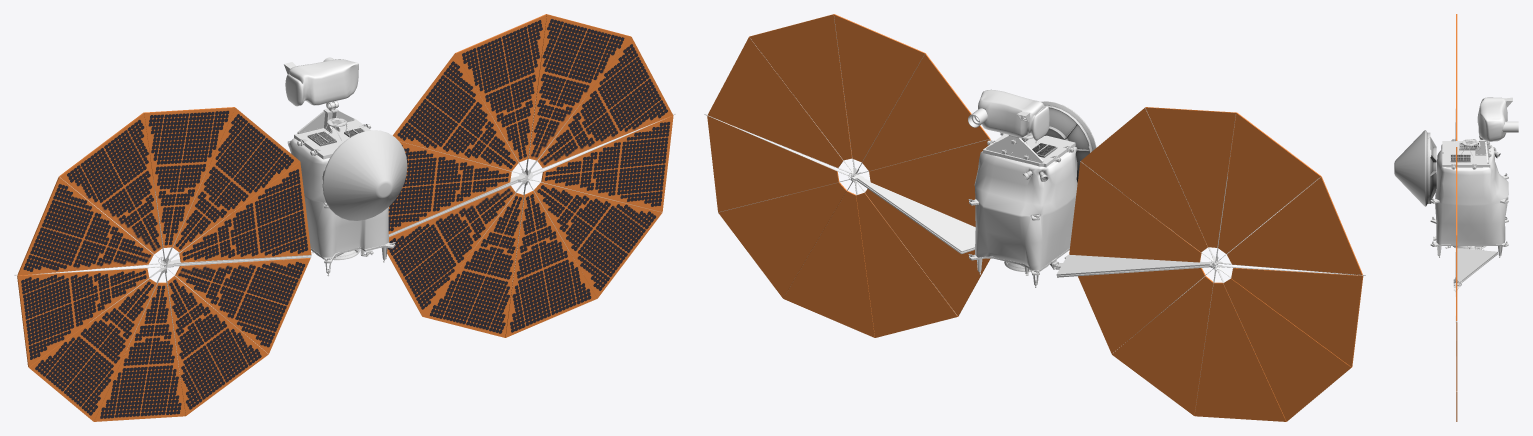
File: sc_lucy.glb
3 renders of one model, left to right at view 1: azimuth 30°, elevation 25°; view 2: azimuth 150°, elevation 25°; view 3: azimuth 270°, elevation 25°, orthographic. The views are drawn at different scales.
Parts seen in each view (by area): view 1: array_left.001, array_left, HGA, BUS, Lucy_Model:pCube20.001, array_left_gears, array_left_gears.001, top_platform; view 2: array_left.001, array_left, BUS, array_left_gears, array_left_gears.001, Lucy_Model:pCube20.001, HGS_base, top_platform; view 3: BUS, HGA, Lucy_Model:pCube20.001, array_left_gears, top_platform, HGS_base, array_left, luvers, array_left.001, platform_bottom, top_instruments, round_plate.
Part boxes in pixels (x1,y1,x2,y2): array_left.001: [17, 107, 311, 421]; array_left: [387, 14, 673, 337]; HGA: [323, 130, 407, 220]; BUS: [288, 138, 388, 257]; Lucy_Model:pCube20.001: [285, 59, 358, 106]; array_left_gears: [388, 95, 675, 286]; array_left_gears.001: [14, 174, 311, 380]; top_platform: [294, 108, 370, 159]; array_left.001: [1069, 107, 1363, 421]; array_left: [707, 14, 990, 337]; BUS: [974, 146, 1077, 270]; array_left_gears: [704, 16, 989, 314]; array_left_gears.001: [1054, 108, 1365, 409]; Lucy_Model:pCube20.001: [978, 89, 1049, 140]; HGS_base: [1041, 101, 1096, 182]; top_platform: [983, 134, 1075, 167]; BUS: [1435, 144, 1508, 244]; HGA: [1394, 130, 1425, 206]; Lucy_Model:pCube20.001: [1477, 97, 1507, 141]; array_left_gears: [1453, 246, 1497, 355]; top_platform: [1442, 139, 1490, 167]; HGS_base: [1425, 130, 1436, 206]; array_left: [1456, 147, 1457, 421]; luvers: [1450, 142, 1479, 162]; array_left.001: [1456, 14, 1457, 140]; platform_bottom: [1430, 218, 1508, 248]; top_instruments: [1502, 97, 1518, 132]; round_plate: [1459, 139, 1478, 157].
Bounding box in the file's own units: 1.81 × 0.8196 × 0.3726.
11 materials, 3 textured.
